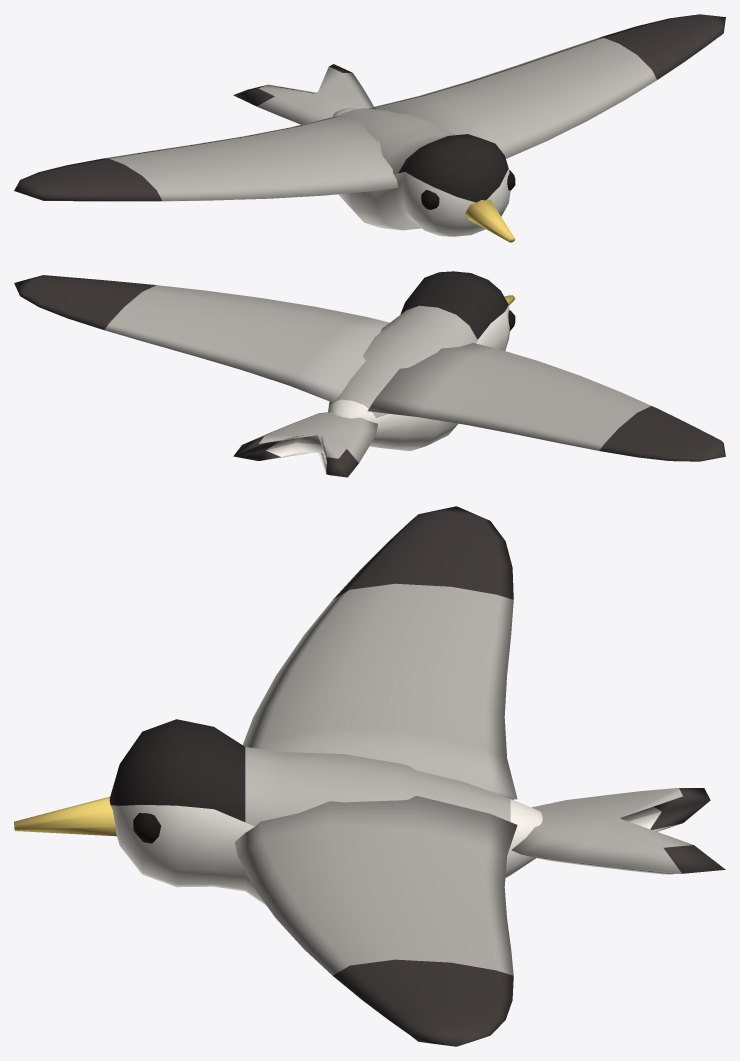
Rendered from fauna_seabird.glb.
3 views of the same model, one above another, from view 1: azimuth 30°, elevation 25°; view 2: azimuth 150°, elevation 25°; view 3: azimuth 270°, elevation 25° (orthographic). The views are drawn at different scales.
Visible parts, largest first — view 1: wing_r, wing_l, body, tail; view 2: wing_l, wing_r, body, tail; view 3: wing_r, wing_l, body, tail.
Part boxes in pixels (<box>): wing_r: <box>14,116,397,201</box>; wing_l: <box>367,14,725,158</box>; body: <box>332,108,515,242</box>; tail: <box>233,64,373,124</box>; wing_l: <box>14,275,389,402</box>; wing_r: <box>367,343,725,461</box>; body: <box>328,271,515,450</box>; tail: <box>233,412,377,477</box>; wing_r: <box>243,506,517,799</box>; wing_l: <box>234,796,517,1046</box>; body: <box>14,719,542,905</box>; tail: <box>511,788,725,874</box>.
Bounding box in the file's own units: 1.3 × 0.218 × 0.7247.
